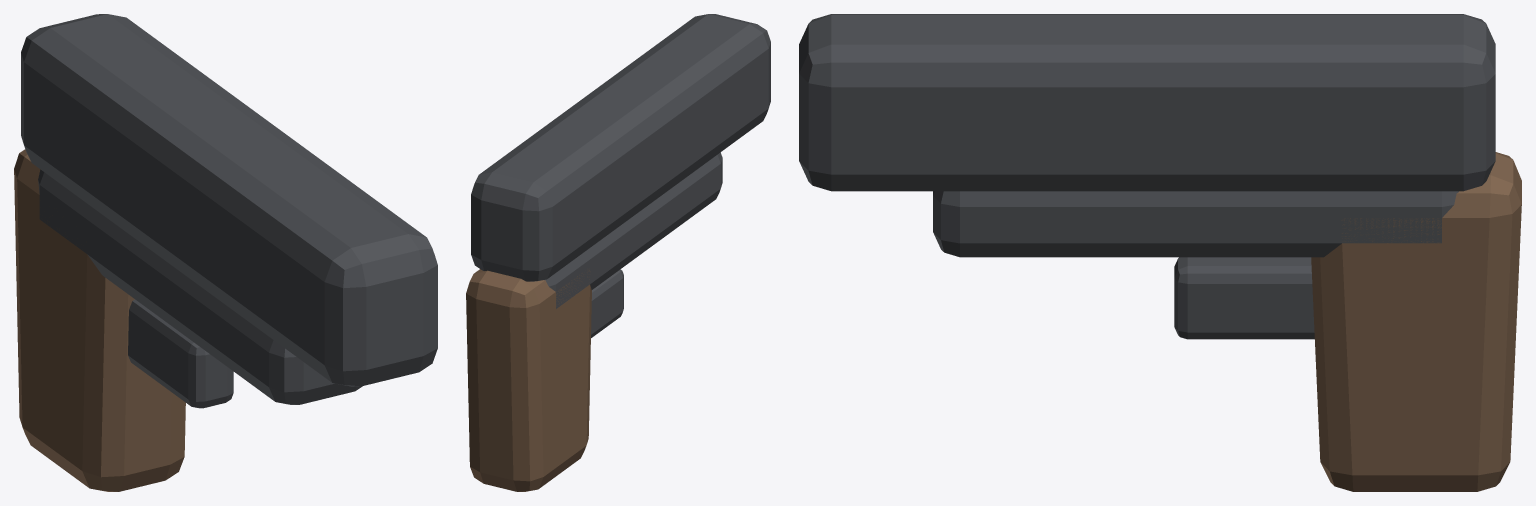
The model's file is pistol.glb.
The picture shows the model from 3 angles, left to right: view 1: azimuth 30°, elevation 25°; view 2: azimuth 150°, elevation 25°; view 3: azimuth 270°, elevation 25°; orthographic projection. The views are drawn at different scales.
Parts seen in each view (by area): view 1: Slide, Grip, Frame, Guard; view 2: Slide, Grip, Frame, Guard; view 3: Slide, Grip, Frame, Guard.
Part boxes in pixels (x1,y1,x2,y2): Slide: [21, 14, 437, 386]; Grip: [14, 149, 185, 491]; Frame: [38, 169, 362, 404]; Guard: [128, 299, 233, 408]; Slide: [471, 14, 770, 281]; Grip: [466, 269, 591, 491]; Frame: [544, 152, 722, 308]; Guard: [591, 269, 623, 337]; Slide: [799, 14, 1495, 191]; Grip: [1311, 152, 1521, 491]; Frame: [933, 191, 1458, 257]; Guard: [1174, 257, 1314, 339].
Size of the model in its own units: 0.05 by 0.185 by 0.2698.
